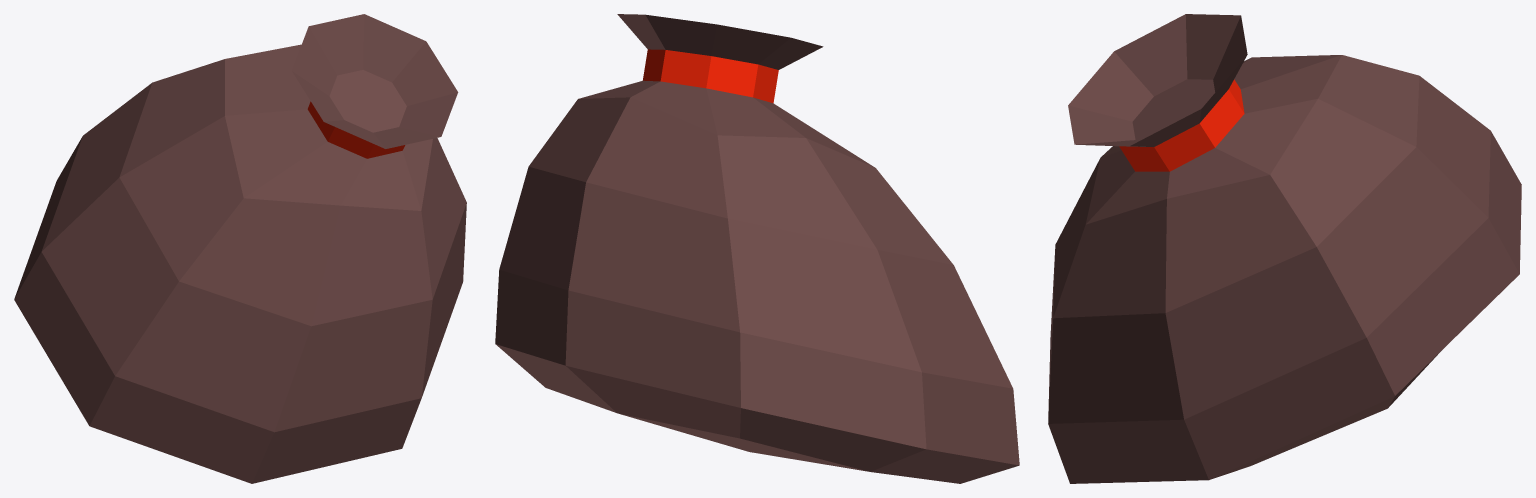
The model's file is Bolsa_Loot_color.fbx.
The picture shows the model from 3 angles, left to right: view 1: azimuth 30°, elevation 25°; view 2: azimuth 150°, elevation 25°; view 3: azimuth 270°, elevation 25°; orthographic projection. The views are drawn at different scales.
Parts seen in each view (by area): view 1: Bolsa_Loot_color; view 2: Bolsa_Loot_color; view 3: Bolsa_Loot_color.
Part boxes in pixels (<box>): Bolsa_Loot_color: <box>14,14,466,483</box>; Bolsa_Loot_color: <box>495,14,1019,483</box>; Bolsa_Loot_color: <box>1048,14,1521,483</box>.
Size of the model in its own units: 13.68 by 12.53 by 13.43.
